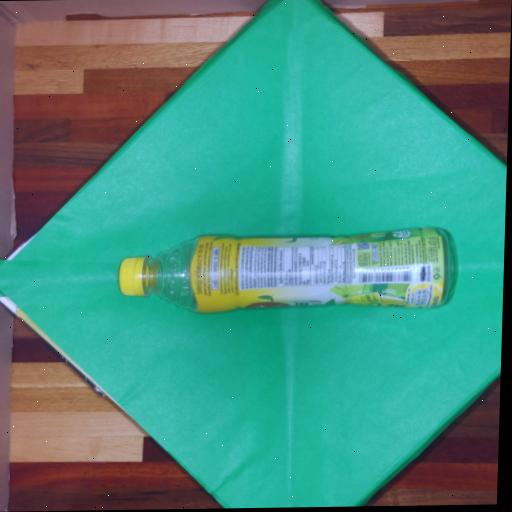bottle: (117, 226, 458, 311)
